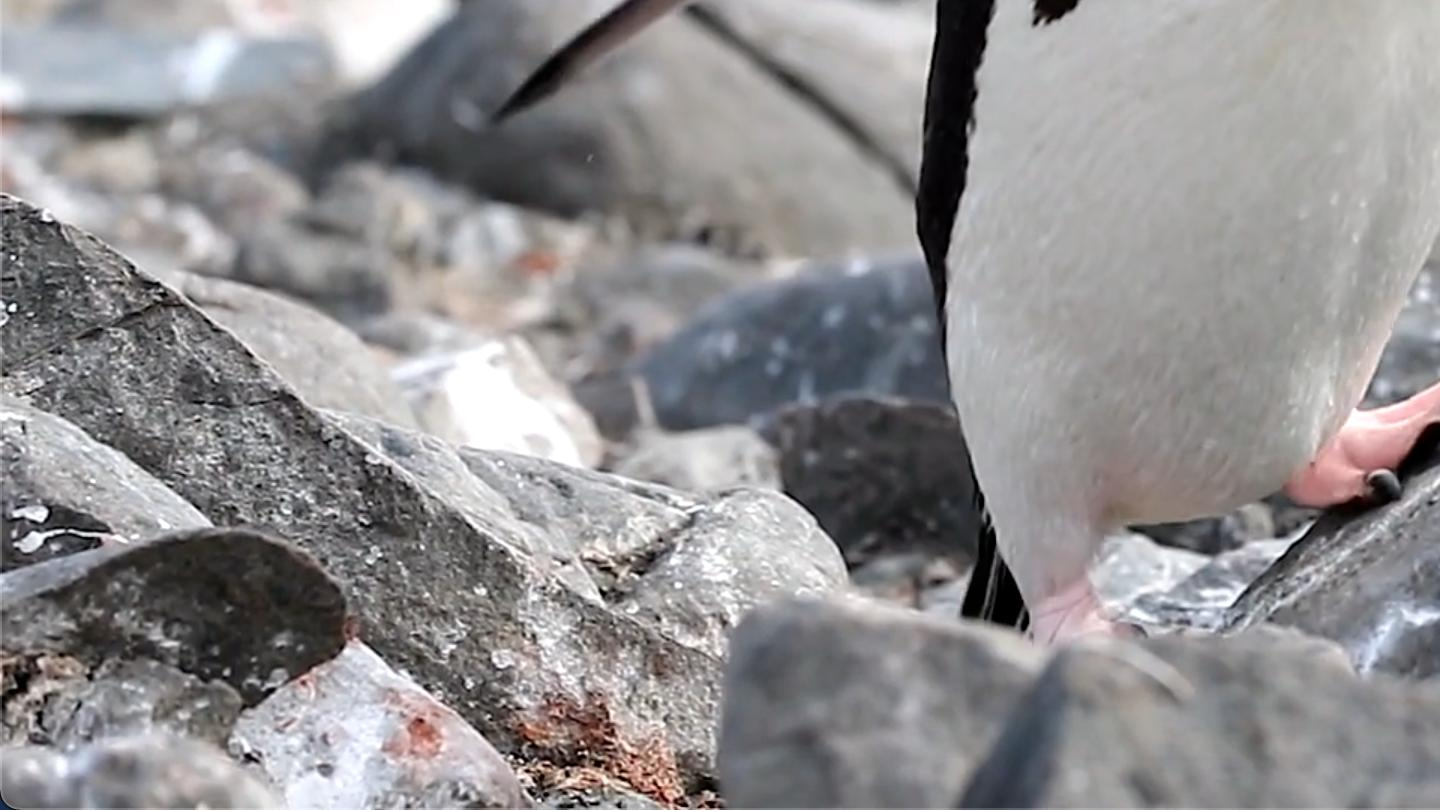Chinstrap Penguin: (446, 0, 1440, 544)
